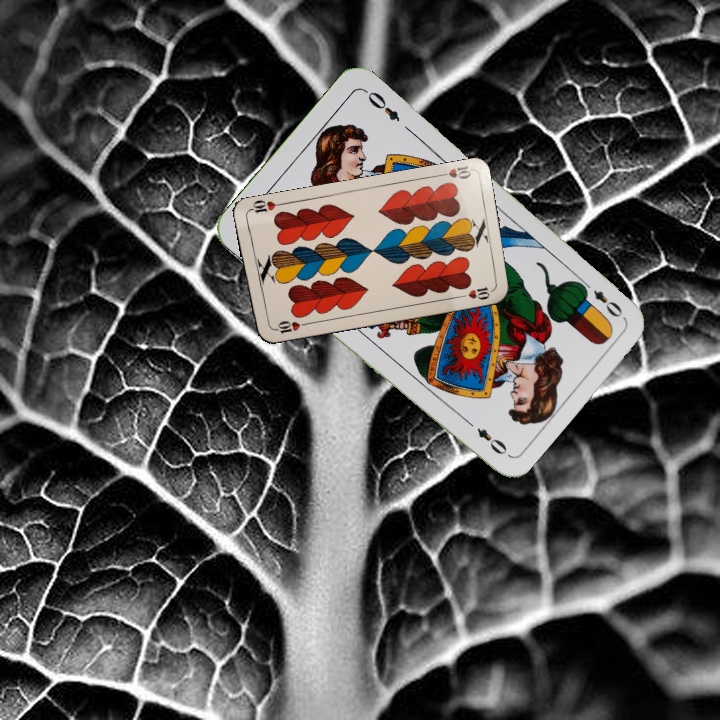EO: (577, 276, 626, 321)
H10: (433, 162, 473, 182), (268, 317, 309, 336)
